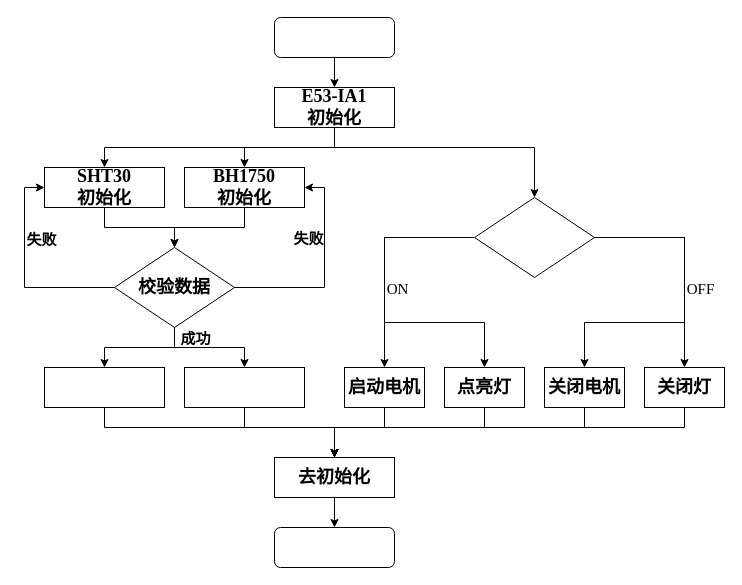
This 742x585 diagram has some shape labels left out. The centre of each missing label's shape, as x and y in pixels:
"判断状态值" belongs at point (534, 237).
"开始" belongs at point (334, 37).
"结束" belongs at point (334, 547).
"采集光照强度数据并计算" belongs at point (244, 387).
"采集温湿度数据并计算" belongs at point (104, 387).
